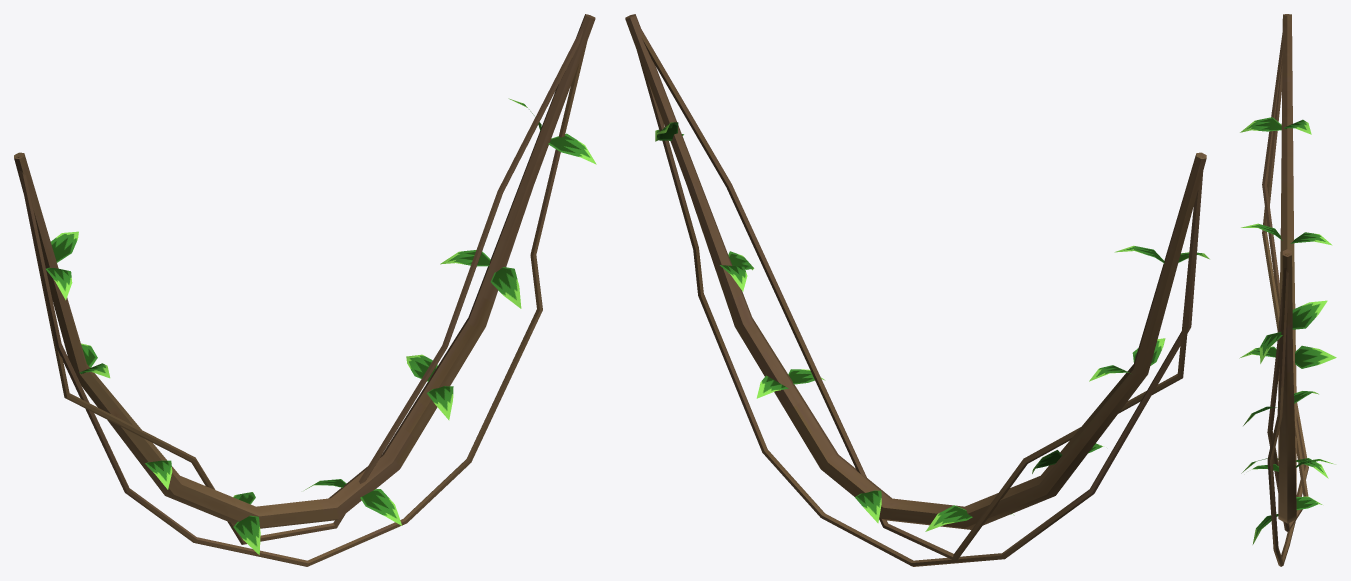
Rendered from Liane_3.FBX.
3 views of the same model, side by side, from view 1: azimuth 30°, elevation 25°; view 2: azimuth 150°, elevation 25°; view 3: azimuth 270°, elevation 25° (orthographic). The views are drawn at different scales.
Visible parts, largest first — view 1: Liana_003; view 2: Liana_003; view 3: Liana_003.
Part boxes in pixels (<box>): Liana_003: <box>14,14,596,566</box>; Liana_003: <box>625,14,1209,566</box>; Liana_003: <box>1239,14,1336,566</box>.
Size of the model in its own units: 662 by 526 by 113.
